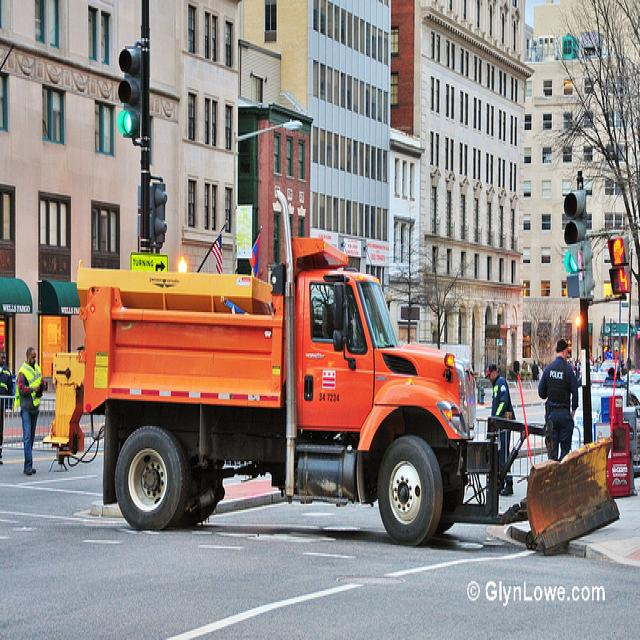Vehicle: (42, 226, 479, 546)
